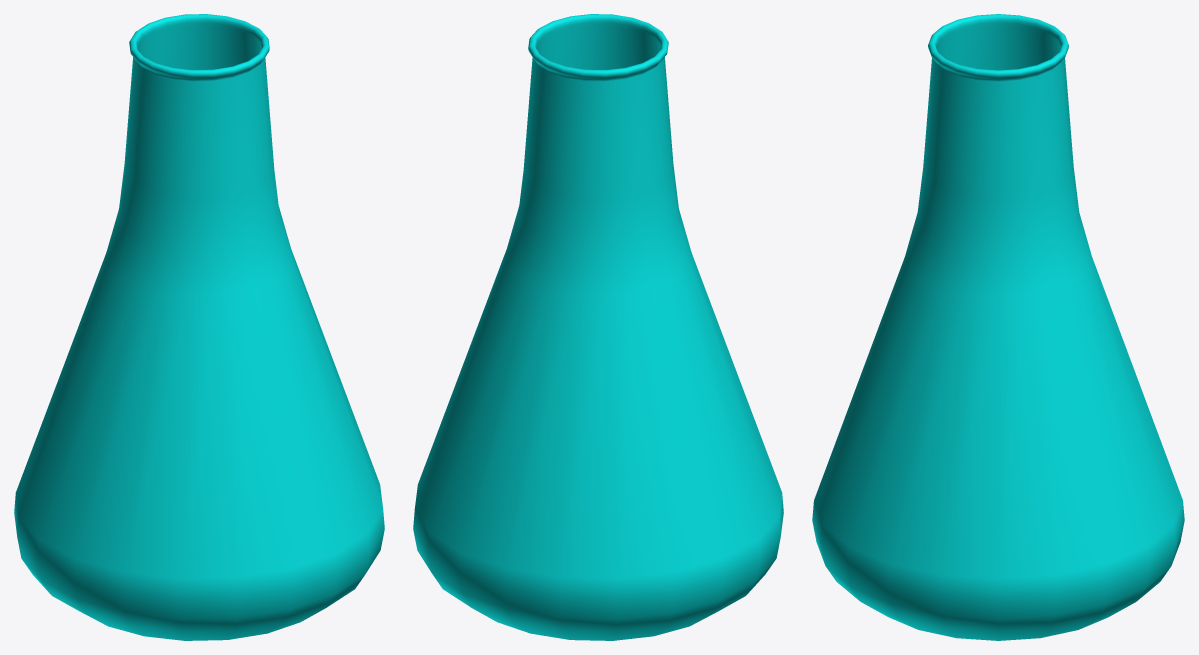
File: SM_Flask1.fbx
3 views of the same model, side by side, from view 1: azimuth 30°, elevation 25°; view 2: azimuth 150°, elevation 25°; view 3: azimuth 270°, elevation 25° (orthographic).
Visible parts, largest first — view 1: Flask1; view 2: Flask1; view 3: Flask1.
Boxes of the visible parts, left/top/right/bottom form: Flask1: left=14, top=14, right=384, bottom=640; Flask1: left=413, top=14, right=783, bottom=640; Flask1: left=812, top=14, right=1184, bottom=640.
Size of what is drawn, in the model's own units: 13.17 by 21.24 by 13.17.
